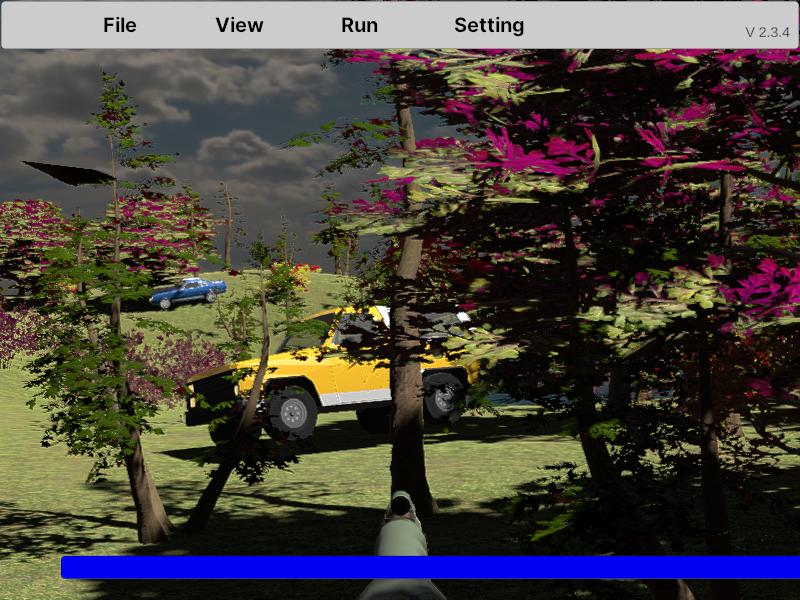car: (183, 307, 472, 444), (150, 275, 226, 311)
